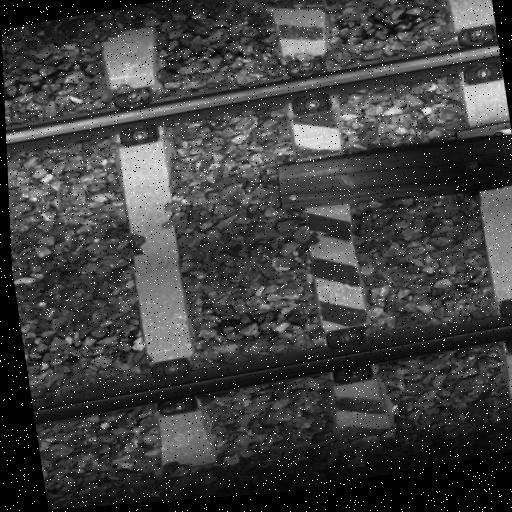sleeper: (82, 17, 234, 485), (258, 0, 397, 449), (428, 0, 512, 416), (3, 57, 53, 499)
